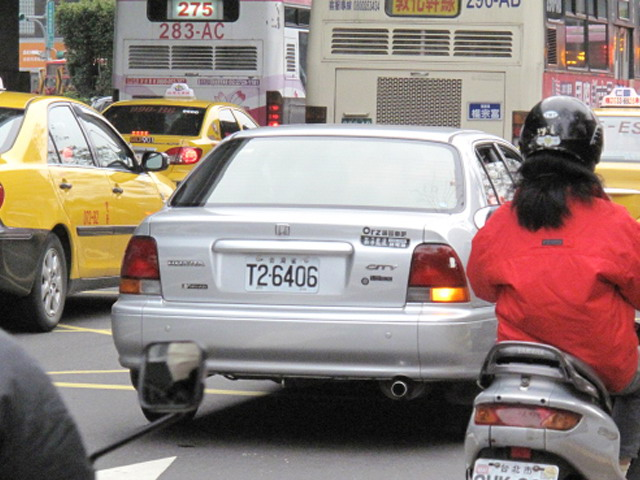plate: (243, 252, 321, 295)
